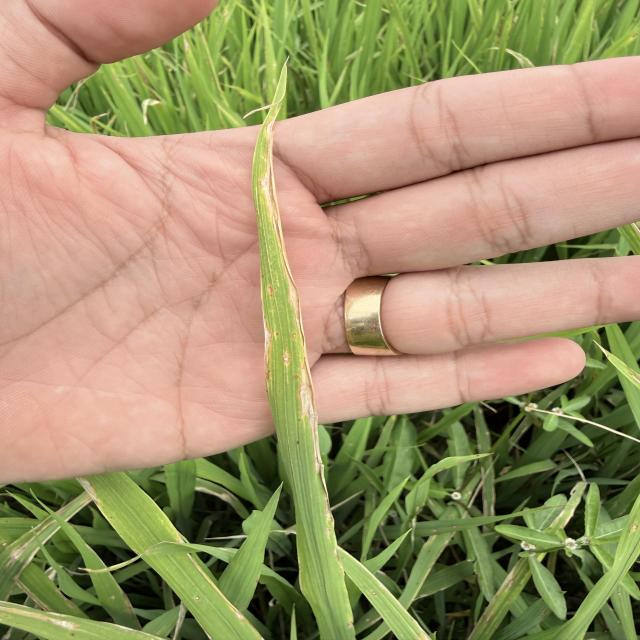Chay bia la: (256, 63, 320, 481)
